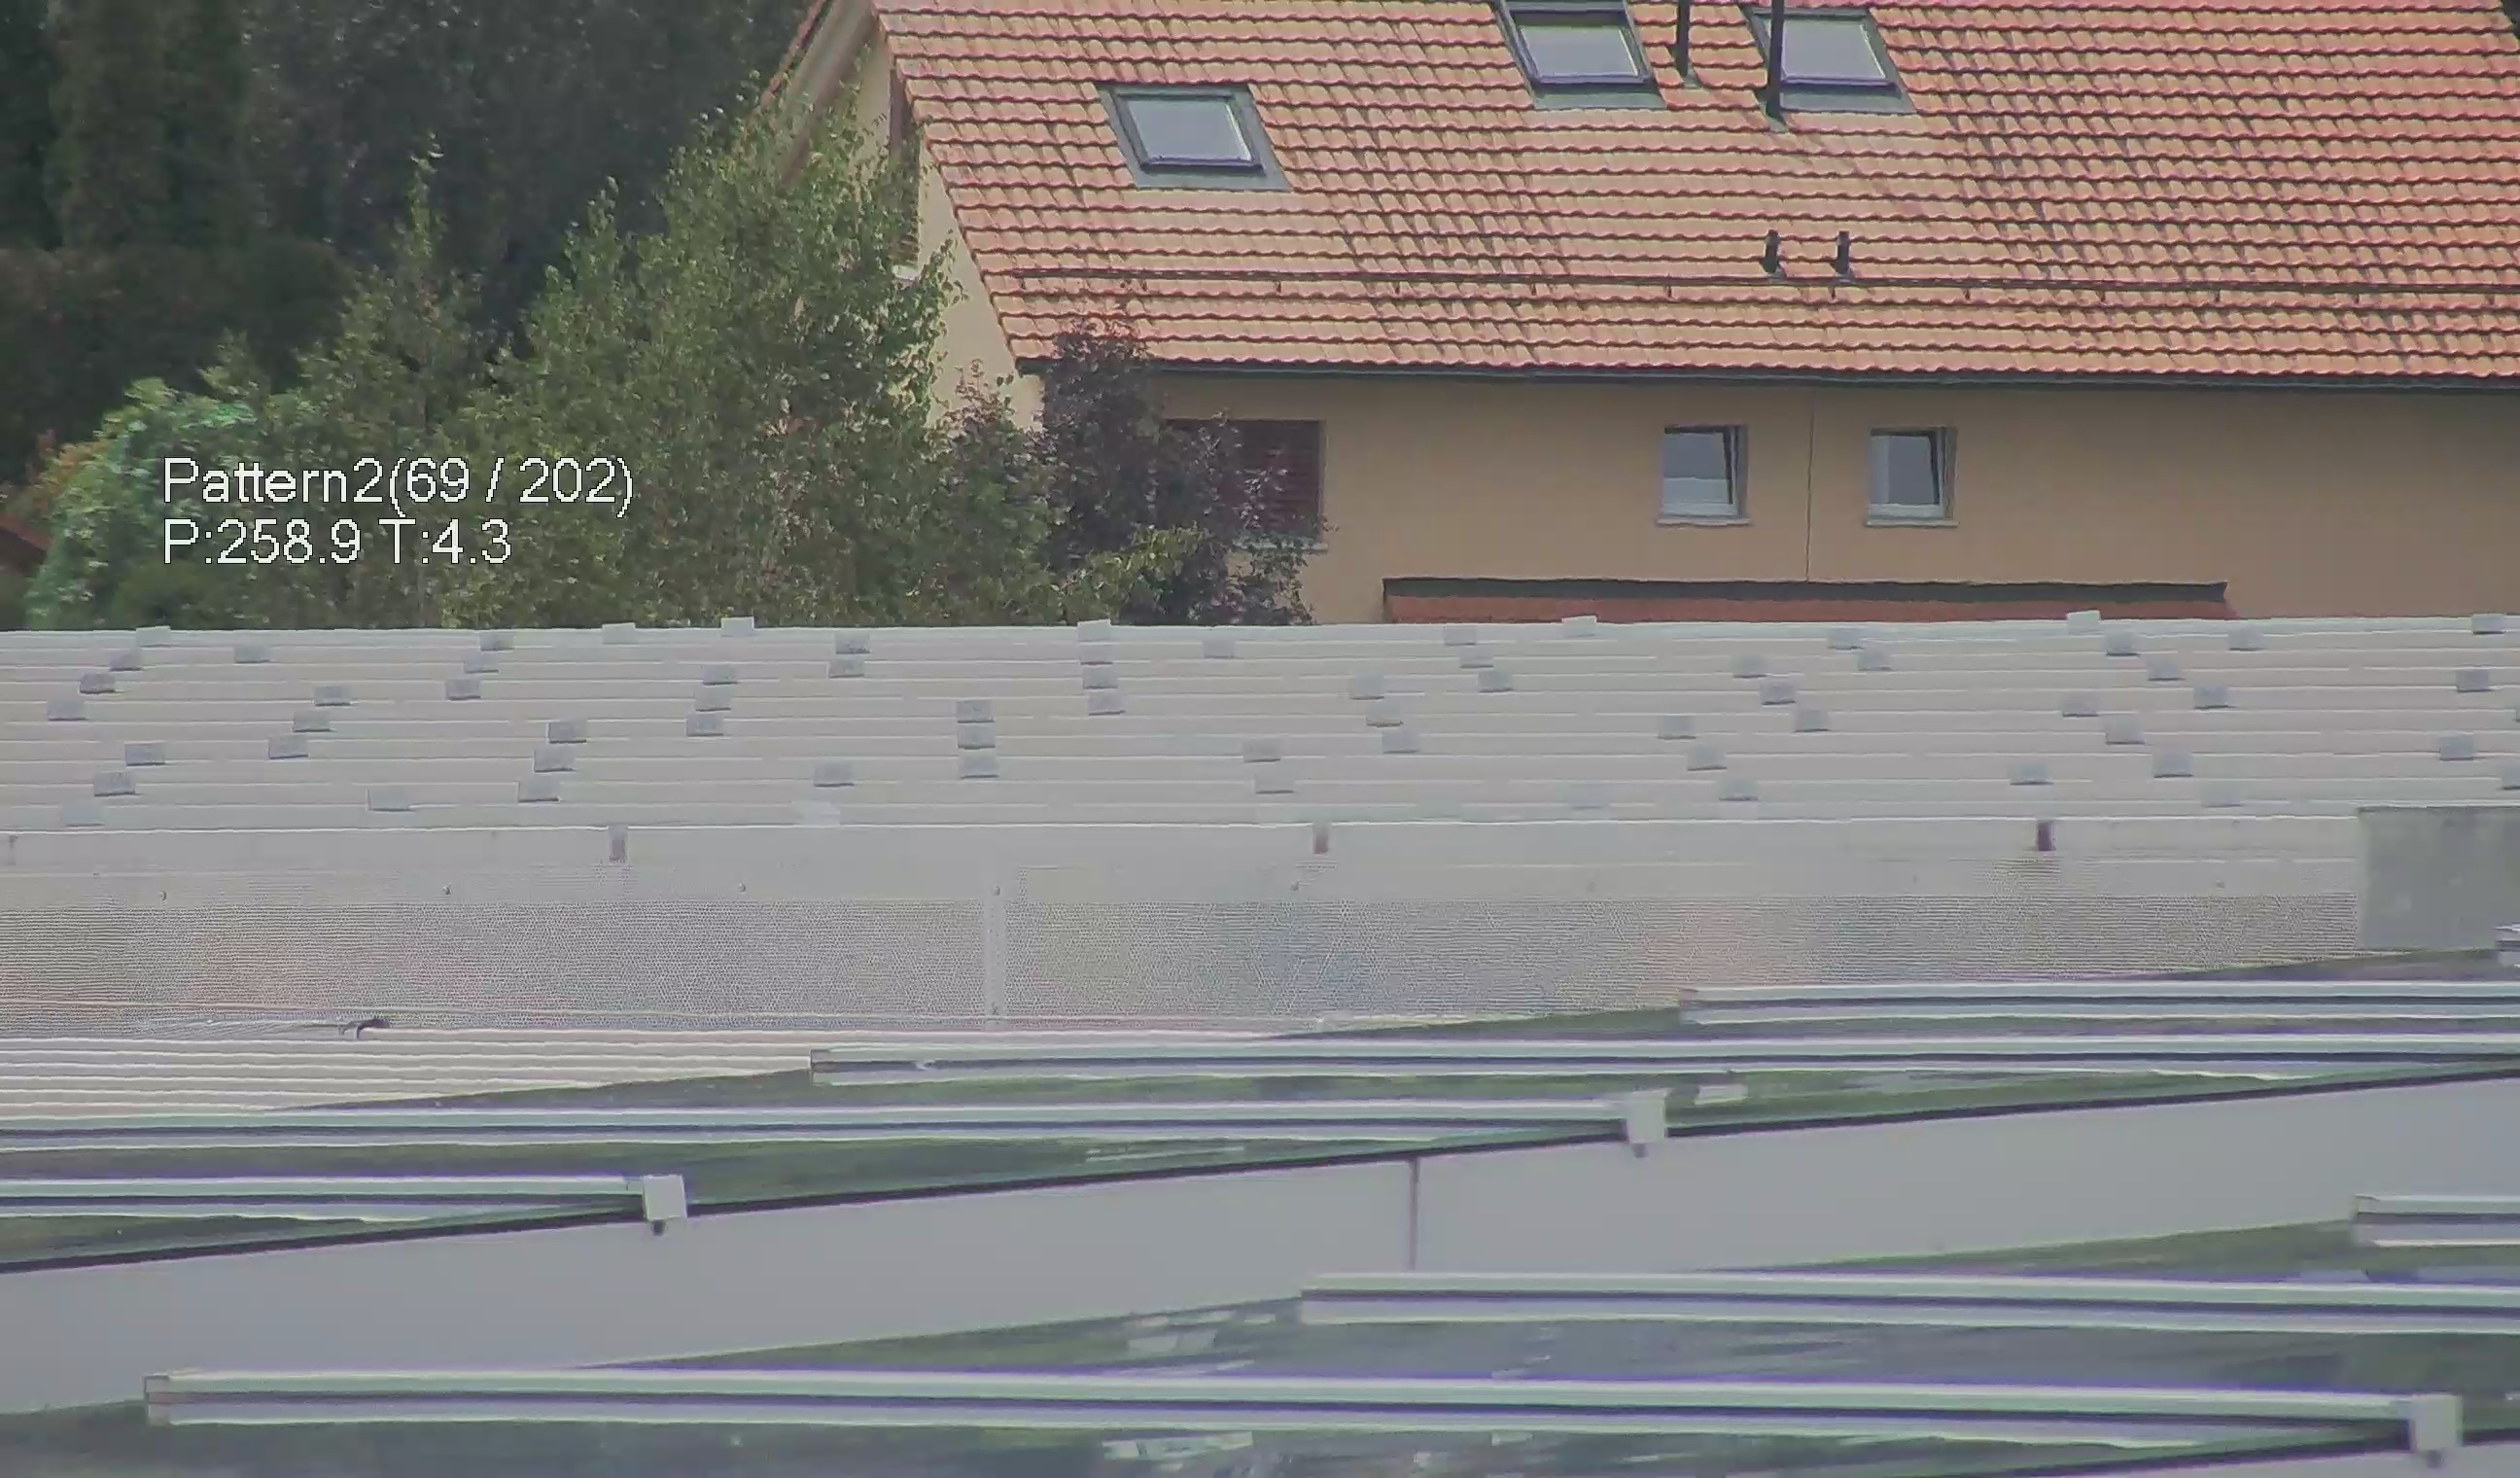Other: (1822, 216, 1871, 278)
